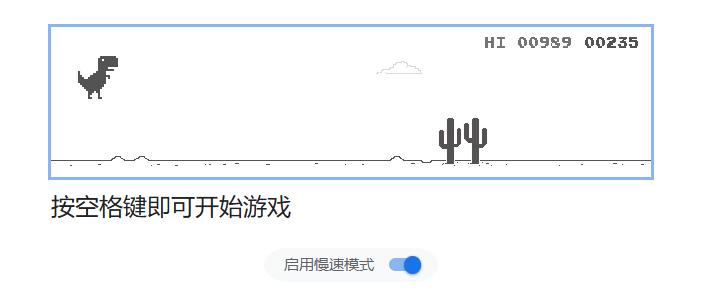cactus: (437, 115, 489, 167)
dino: (77, 55, 120, 101)
